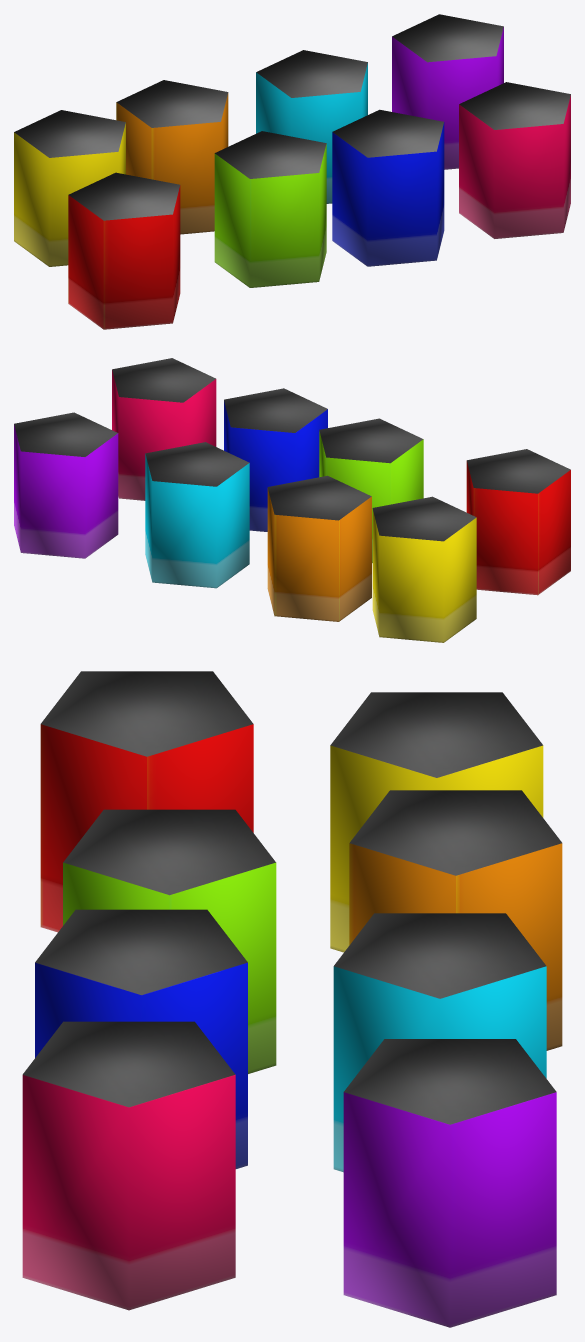
The model's file is Paint_Cans.fbx.
The picture shows the model from 3 angles, top to bottom: view 1: azimuth 30°, elevation 25°; view 2: azimuth 150°, elevation 25°; view 3: azimuth 270°, elevation 25°; orthographic projection. The views are drawn at different scales.
Parts seen in each view (by area): view 1: Paint_Cans; view 2: Paint_Cans; view 3: Paint_Cans.
Part boxes in pixels (x1=…): Paint_Cans: x1=14, y1=14, x2=570, y2=329; Paint_Cans: x1=14, y1=358, x2=570, y2=642; Paint_Cans: x1=22, y1=671, x2=562, y2=1327.
Bounding box in the file's own units: 69.57 × 14.52 × 35.
